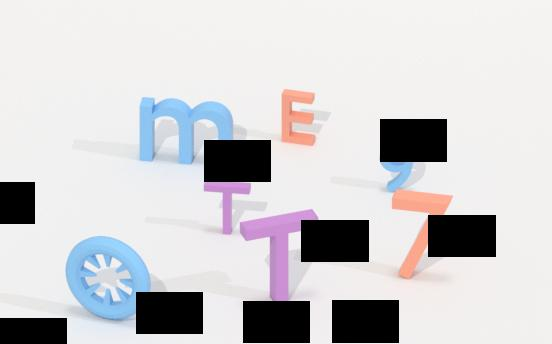7: (389, 187, 456, 283)
9: (378, 137, 417, 197)
E-hoa: (278, 85, 319, 151)
m: (136, 94, 237, 171)
t-hoa: (237, 203, 325, 308), (201, 175, 254, 238)
tron: (65, 231, 154, 327)
